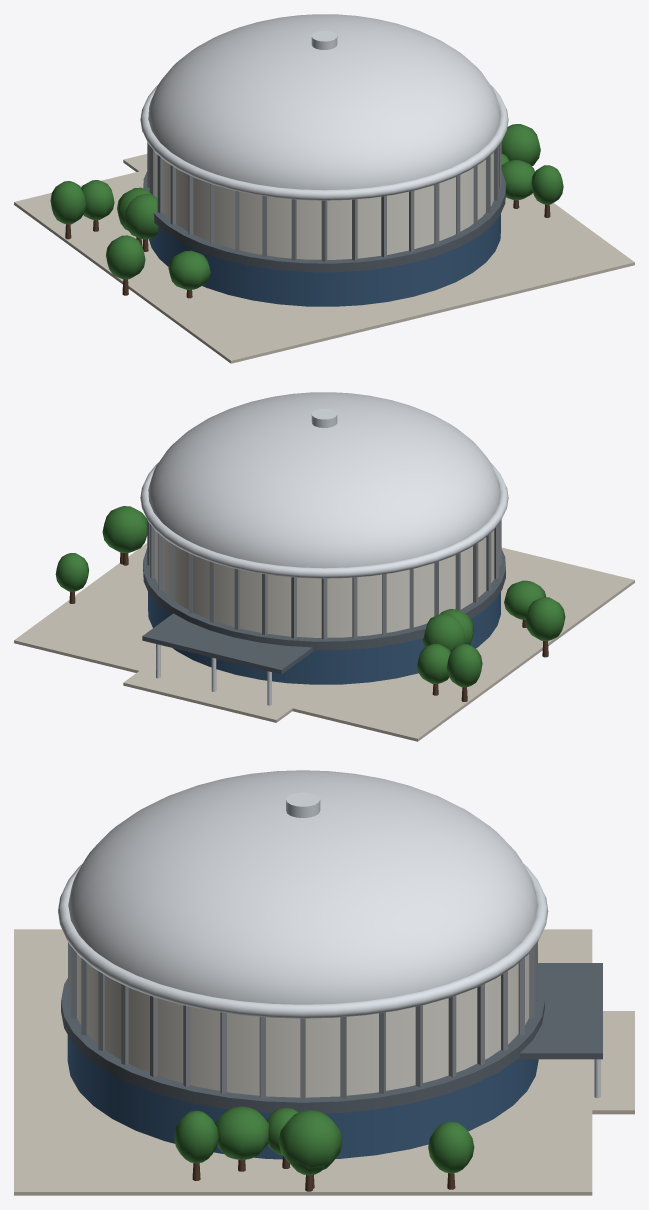
The model's file is jangchung-arena.glb.
The picture shows the model from 3 angles, top to bottom: view 1: azimuth 30°, elevation 25°; view 2: azimuth 150°, elevation 25°; view 3: azimuth 270°, elevation 25°; orthographic projection. The views are drawn at different scales.
Bounding box in the file's own units: 63.84 × 27.3 × 58.
